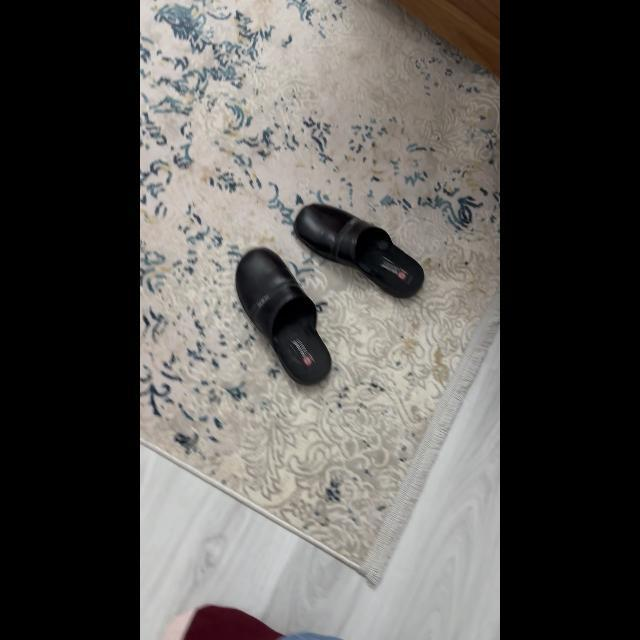slipper: (226, 244, 336, 390), (288, 196, 436, 300)
